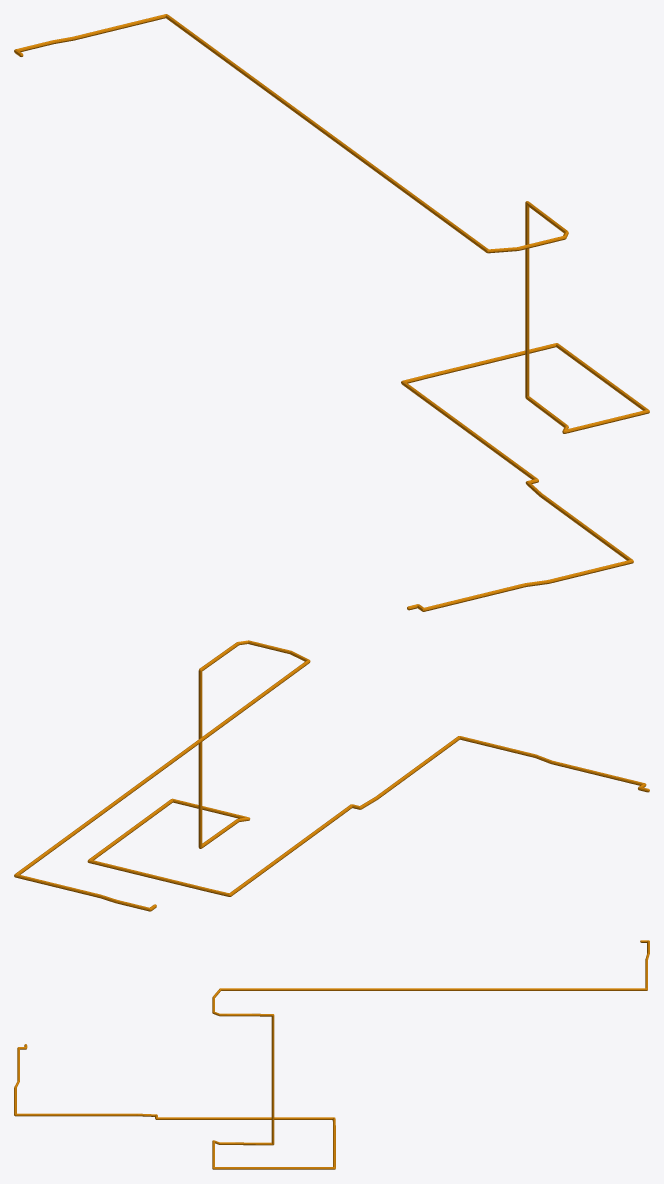
The picture shows the model from 3 angles, top to bottom: view 1: azimuth 30°, elevation 25°; view 2: azimuth 150°, elevation 25°; view 3: azimuth 270°, elevation 25°; orthographic projection. The views are drawn at different scales.
Bounding box in the file's own units: 2071 × 1020 × 4477.
